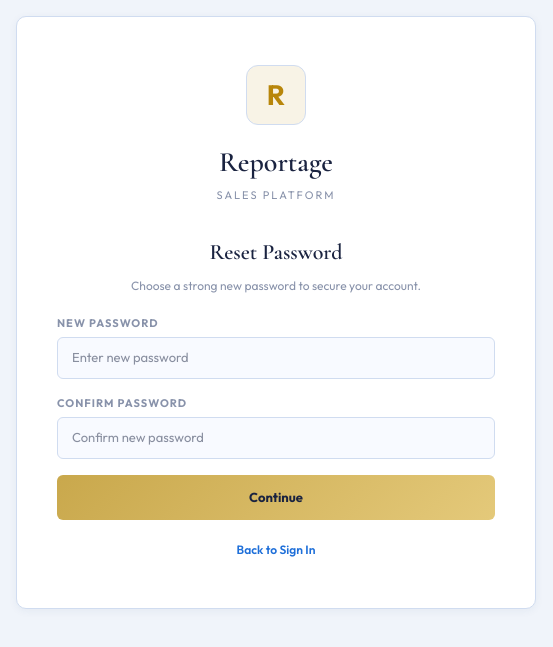
it: Authentication Module Tests › ResetPassword Component › validates password length and match
// Short password
In the password field with placeholder "Enter new password": [276, 358] box [57,337,495,378], type "123"
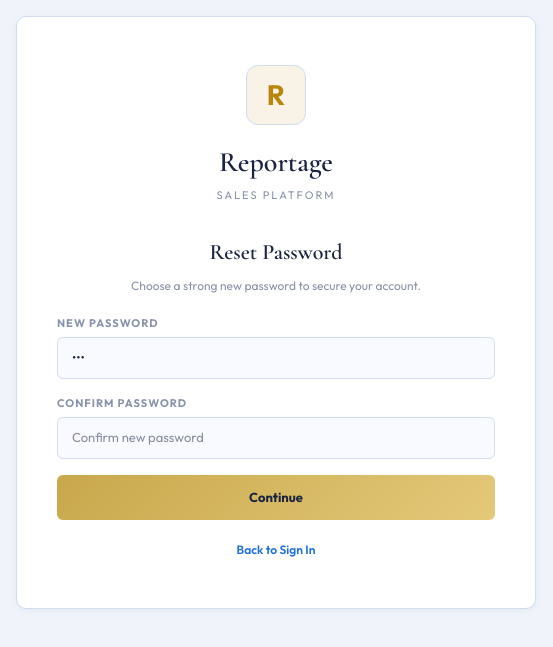
Click the button "Continue": [276, 497] box [57,474,495,520]
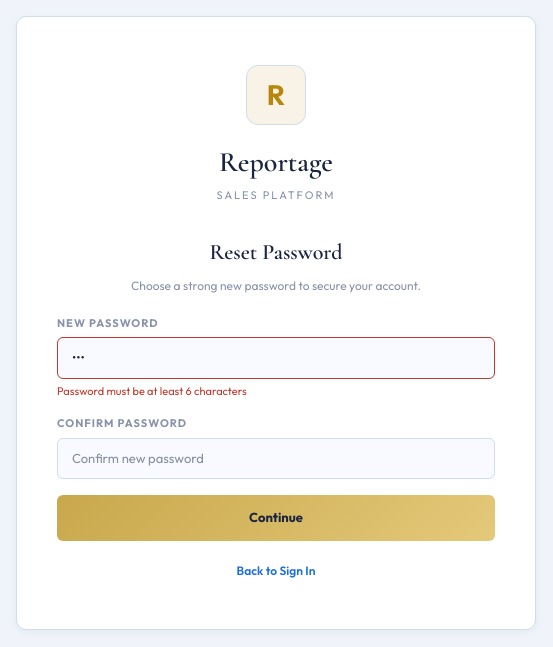
Now the text "Password must be at least 6 characters" is shown, box [57,384,247,398]
// Unmatched confirmation
In the password field with placeholder "Enter new password": [276, 358] box [57,337,495,378], type "password123"
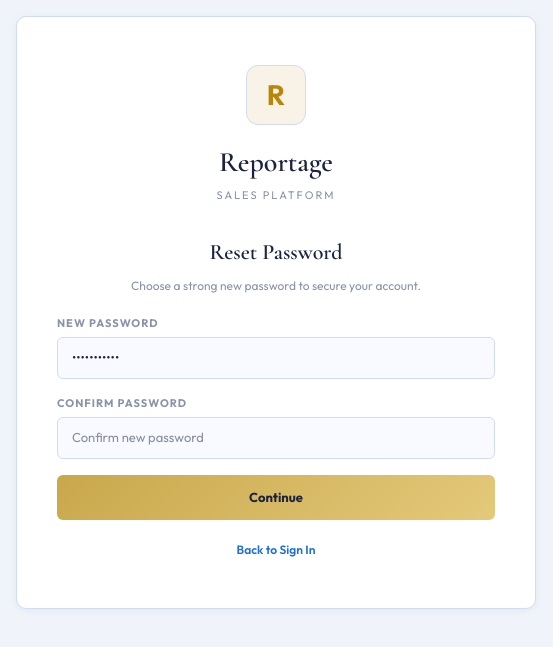
In the password field with placeholder "Confirm new password": [276, 438] box [57,417,495,458], type "different123"
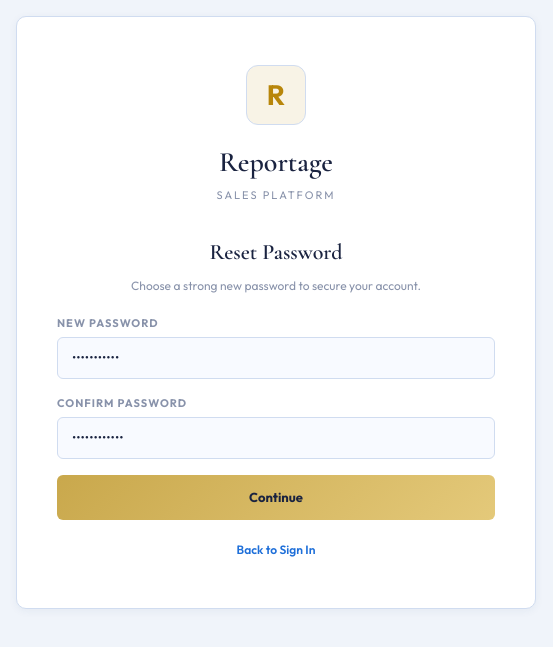
Click the button "Continue": [276, 497] box [57,474,495,520]
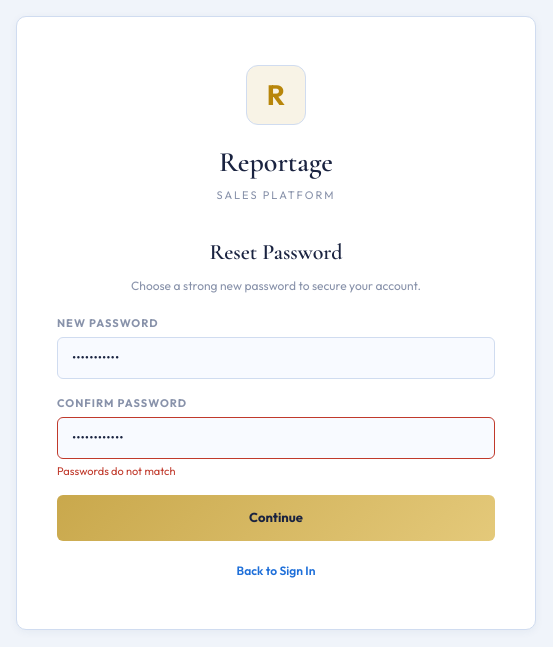
Now the text "Passwords do not match" is shown, box [57,464,176,478]
